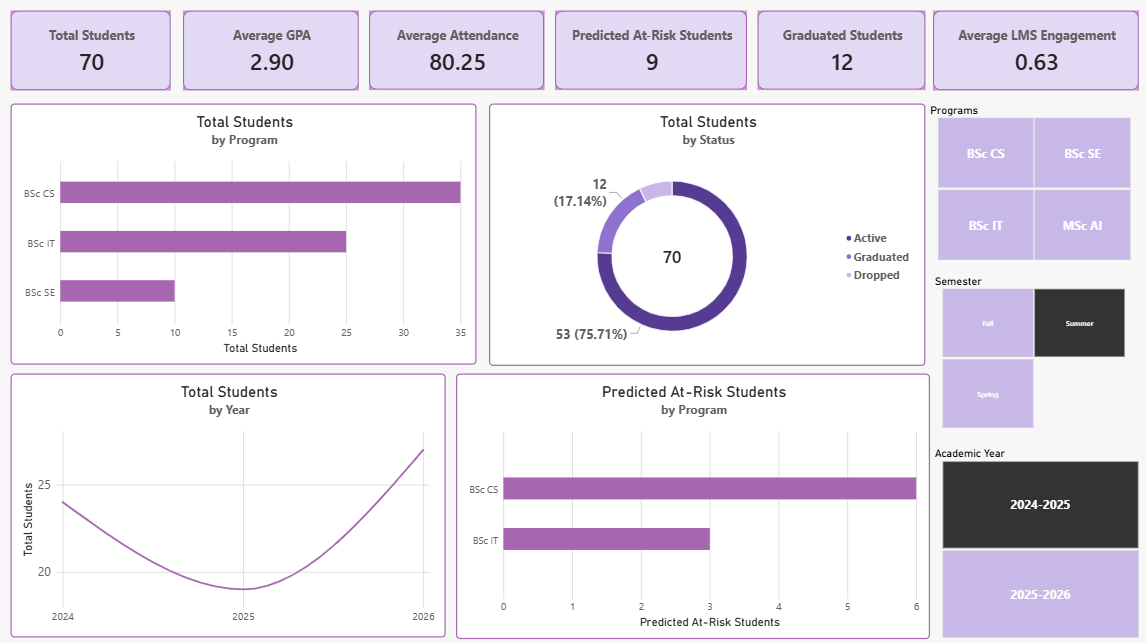

Layout of this report page (visuals, bound fields, positions):
{"tool":"powerbi","page":{"name":"Executive Overview","canvas":[1920,1080],"ordinal":0},"visuals":[{"type":"cardVisual","fields":{"Data":["Student_Info.Total Students"]},"box":[21.5,16.7,267.2,133.6],"z":0},{"type":"cardVisual","fields":{"Data":["Overview.Average GPA"]},"box":[310.2,16.7,293.5,133.6],"z":1000},{"type":"cardVisual","fields":{"Data":["Overview.Average Attendance"]},"box":[620,17.5,292.5,132.5],"z":2000},{"type":"cardVisual","fields":{"Data":["Dropout_Predict.Predicted At-Risk Students"]},"box":[930,17.5,320,132.5],"z":3000},{"type":"cardVisual","fields":{"Data":["Student_Info.Graduated Students"]},"box":[1267.5,17.5,280,132.5],"z":4000},{"type":"cardVisual","fields":{"Data":["Dropout_Predict.Average LMS Engagement"]},"box":[1560.4,16.7,343.6,133.6],"z":5000},{"type":"slicer","fields":{"Values":["Student_Info.Program"]},"box":[1546.4,173.2,360.3,262.5],"z":6000},{"type":"clusteredBarChart","fields":{"Category":["Year.Program"],"Y":["Student_Info.Total Students"]},"box":[22.3,173.2,776.9,435.5],"z":7000},{"type":"donutChart","fields":{"Category":["Student_Info.Status"],"Y":["Student_Info.Total Students"]},"box":[820,172.5,727.5,437.5],"z":8000},{"type":"lineChart","fields":{"Category":["Student_Info.Enrollment_Date.Variation.Date Hierarchy.Year","Student_Info.Enrollment_Date.Variation.Date Hierarchy.Quarter","Student_Info.Enrollment_Date.Variation.Date Hierarchy.Month","Student_Info.Enrollment_Date.Variation.Date Hierarchy.Day"],"Y":["Student_Info.Total Students"]},"box":[22.5,622.5,725,440],"z":9000},{"type":"clusteredBarChart","fields":{"Category":["Year.Program"],"Y":["Dropout_Predict.Predicted At-Risk Students"]},"box":[765,622.5,790,442.5],"z":10000},{"type":"slicer","fields":{"Values":["Year.Semester"]},"box":[1553.8,457.7,343.9,257.3],"z":11000},{"type":"slicer","fields":{"Values":["Year.Academic Year"]},"box":[1553.8,744.7,366.2,319.2],"z":12000}]}

Visuals, with their boxes in screenshot pixels (x1, y1, x2, y2), scaled from the page's 1920x1080 canvas onto the 1146x643 screenshot:
cardVisual - Student_Info.Total Students: [13,10,172,89]
cardVisual - Overview.Average GPA: [185,10,360,89]
cardVisual - Overview.Average Attendance: [370,10,545,89]
cardVisual - Dropout_Predict.Predicted At-Risk Students: [555,10,746,89]
cardVisual - Student_Info.Graduated Students: [757,10,924,89]
cardVisual - Dropout_Predict.Average LMS Engagement: [931,10,1136,89]
slicer - Student_Info.Program: [923,103,1138,259]
clusteredBarChart - Year.Program x Student_Info.Total Students: [13,103,477,362]
donutChart - Student_Info.Status x Student_Info.Total Students: [489,103,924,363]
lineChart - Student_Info.Enrollment_Date.Variation.Date Hierarchy.Year x Student_Info.Enrollment_Date.Variation.Date Hierarchy.Quarter: [13,371,446,633]
clusteredBarChart - Year.Program x Dropout_Predict.Predicted At-Risk Students: [457,371,928,634]
slicer - Year.Semester: [927,273,1133,426]
slicer - Year.Academic Year: [927,443,1145,633]
